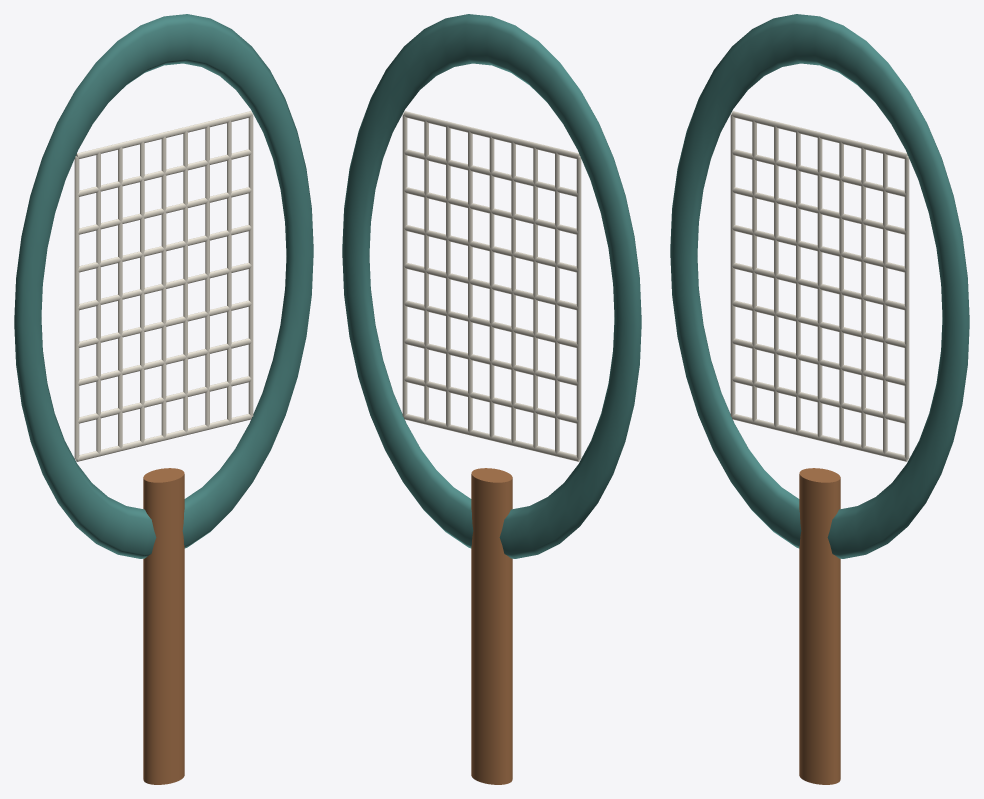
The model's file is wp-raquette-de-tennis.glb.
3 renders of one model, left to right at view 1: azimuth 30°, elevation 25°; view 2: azimuth 150°, elevation 25°; view 3: azimuth 330°, elevation 25°, orthographic.
Visible parts, largest first — view 1: wp-raquette-de-tennis; view 2: wp-raquette-de-tennis; view 3: wp-raquette-de-tennis.
Boxes of the visible parts, x1,y1,x2,y2 form: wp-raquette-de-tennis: (14,14,313,784); wp-raquette-de-tennis: (342,14,641,784); wp-raquette-de-tennis: (670,14,969,784).
Bounding box in the file's own units: 0.28 × 0.68 × 0.025.
